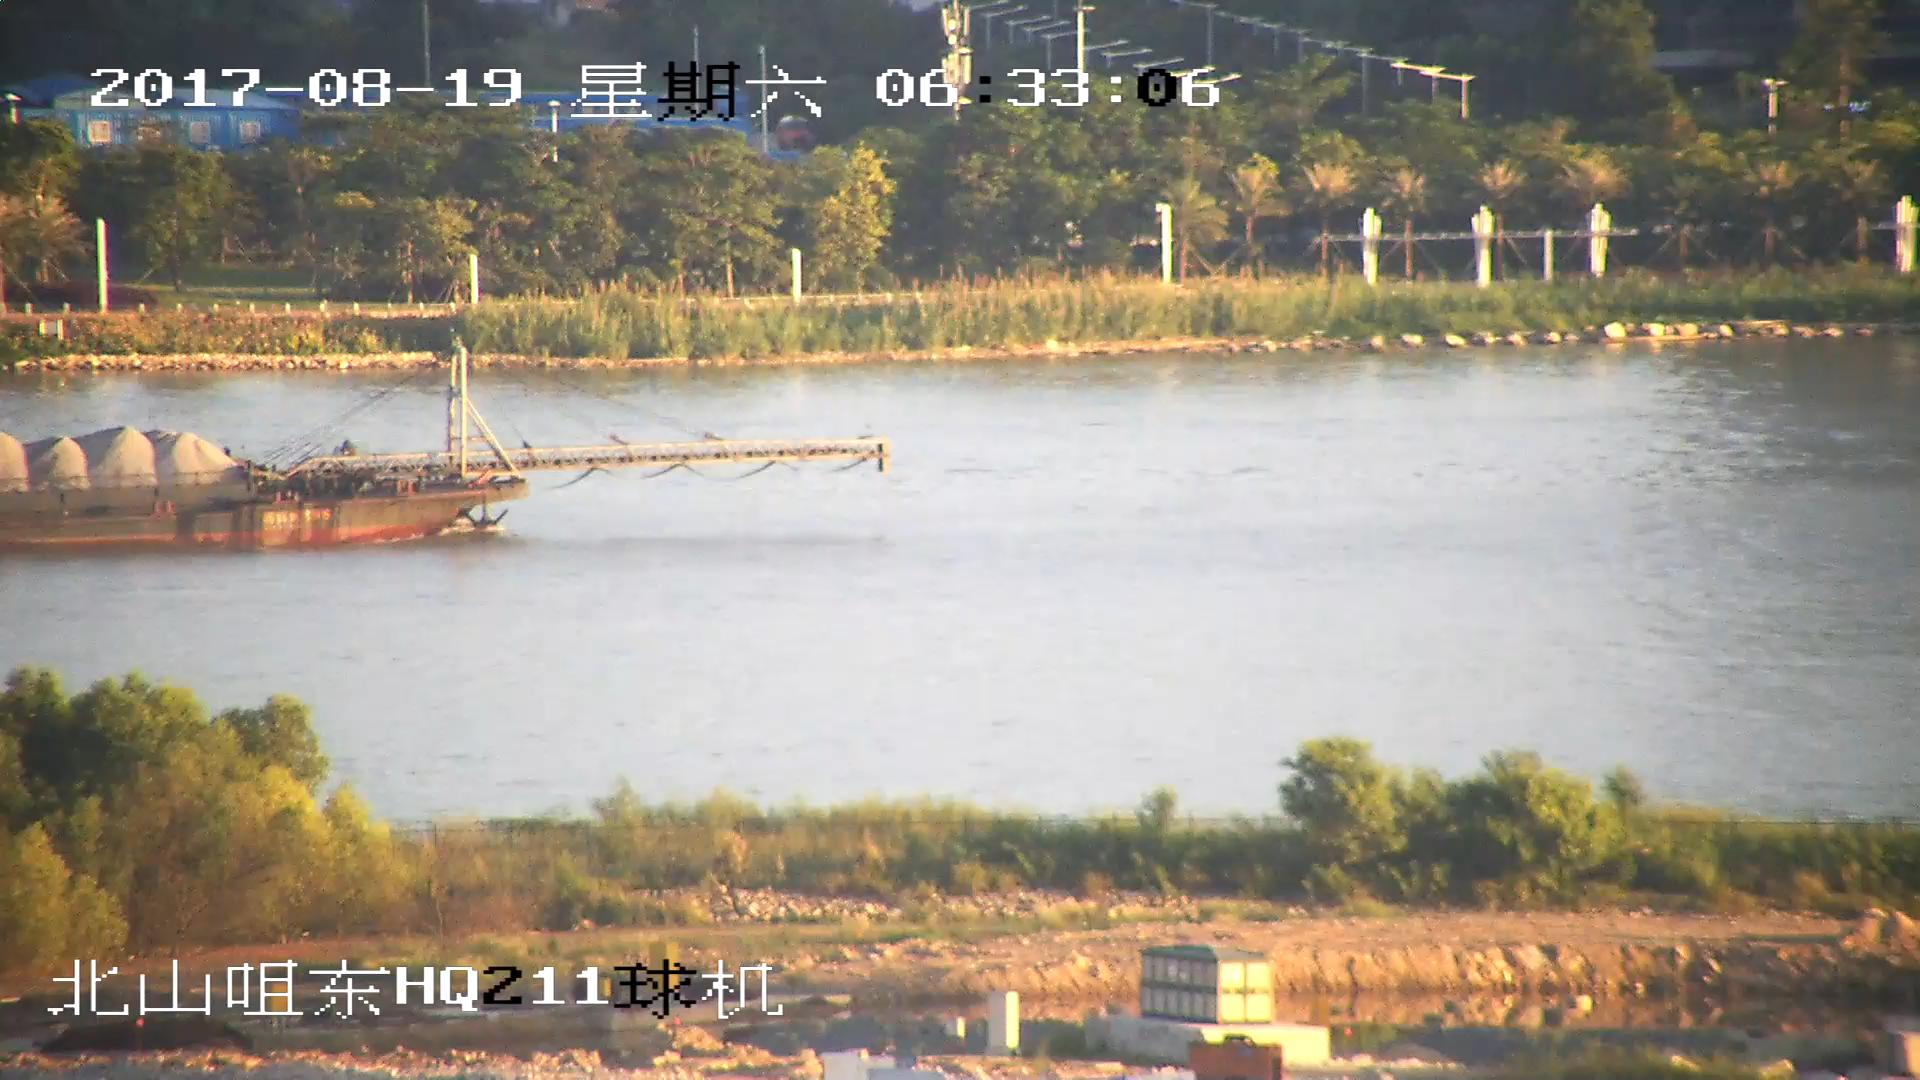ore carrier: (1, 345, 889, 552)
